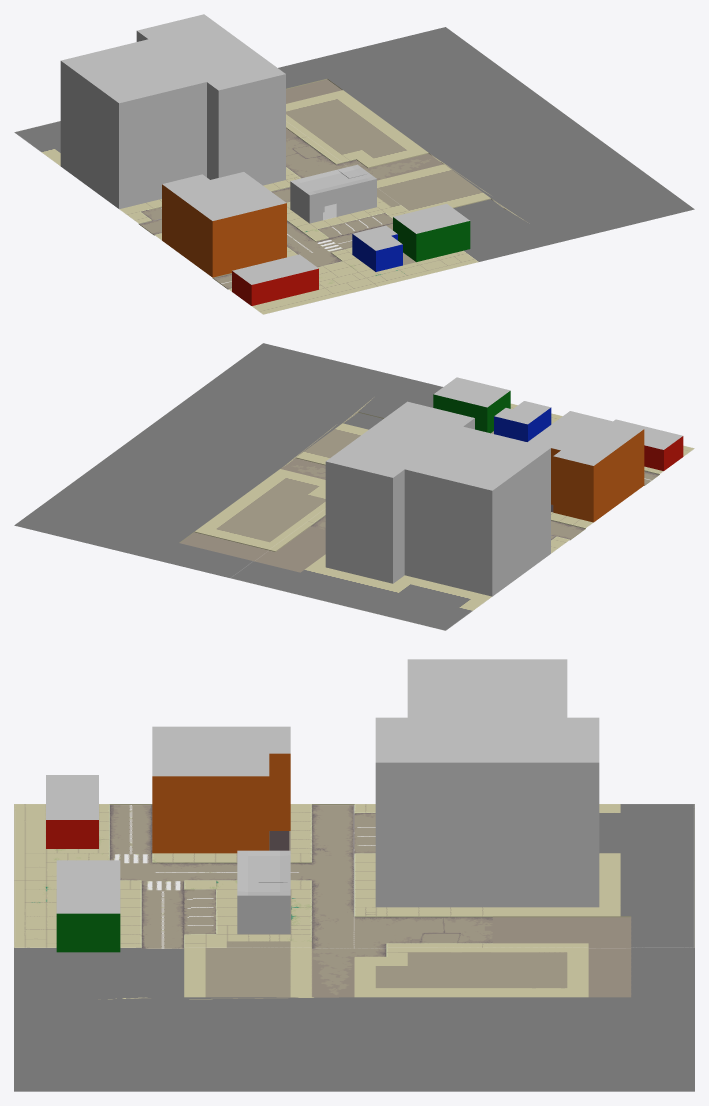
The model's file is city1col.obj.
3 renders of one model, top to bottom at view 1: azimuth 30°, elevation 25°; view 2: azimuth 150°, elevation 25°; view 3: azimuth 270°, elevation 25°, orthographic. The views are drawn at different scales.
Parts seen in each view (by area): view 1: street1, store; view 2: street1; view 3: street1, store.
Part boxes in pixels (bbox=[...]): street1: bbox=[14, 14, 694, 314]; store: bbox=[290, 164, 376, 223]; street1: bbox=[14, 343, 694, 630]; street1: bbox=[14, 659, 694, 1091]; store: bbox=[237, 850, 290, 934].
Bounding box in the file's own units: 64 × 15.1 × 64.
Materials: 7 (1 with a texture image).
